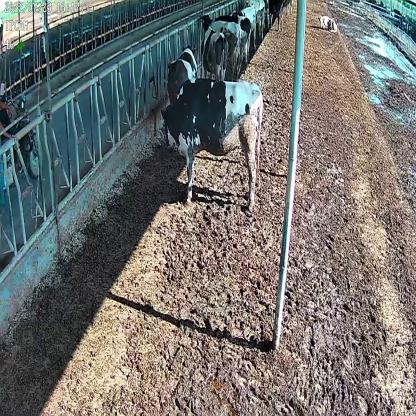cow: (162, 79, 265, 216), (199, 14, 228, 80), (167, 43, 199, 100), (318, 14, 338, 35)
